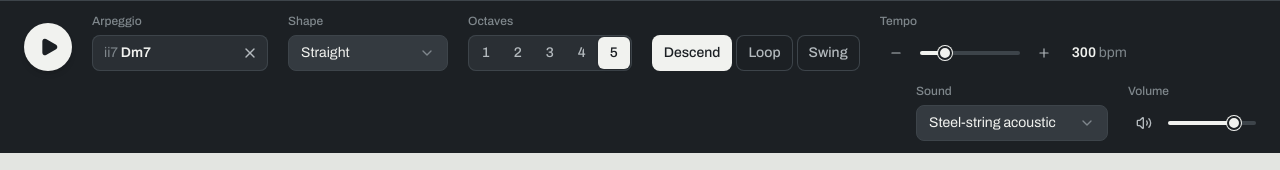
Test: Transport while practising a chord › goes back to patterns in one click
Click the button named "play patterns" at (250, 53), box [236, 39, 264, 67]
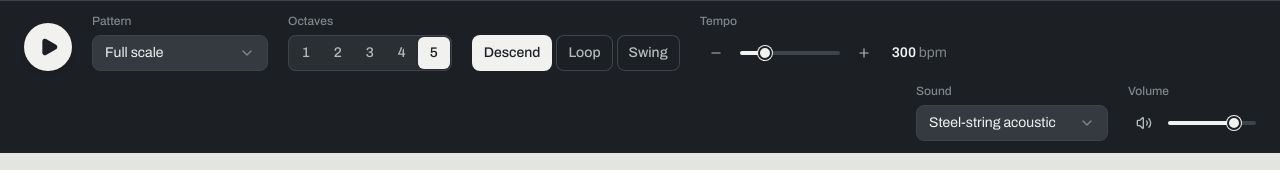
Expected: the dropdown named "Pattern" is shown, [92, 35, 268, 71]
